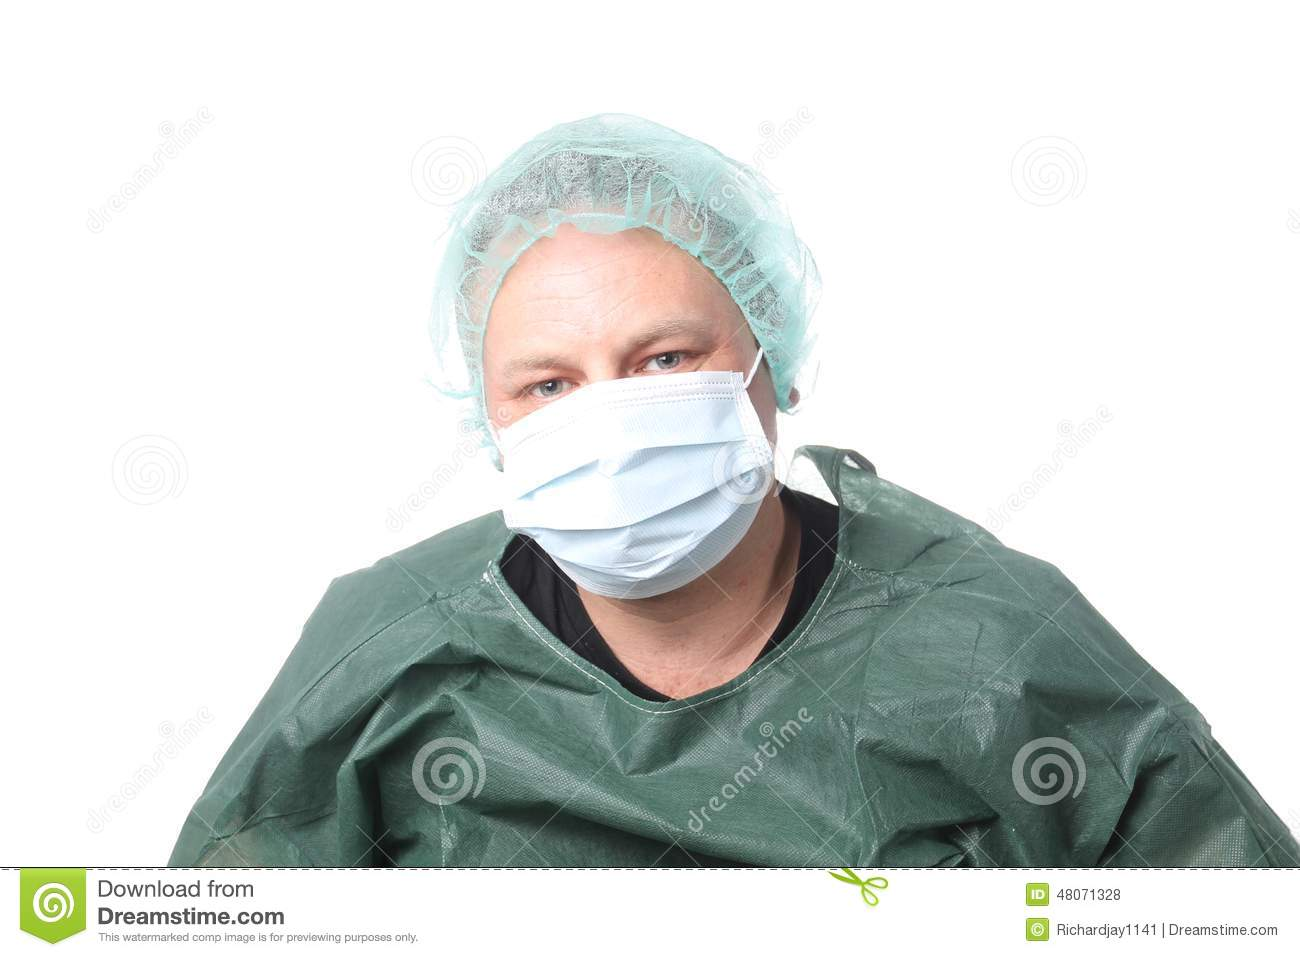mask: (492, 385, 789, 589)
